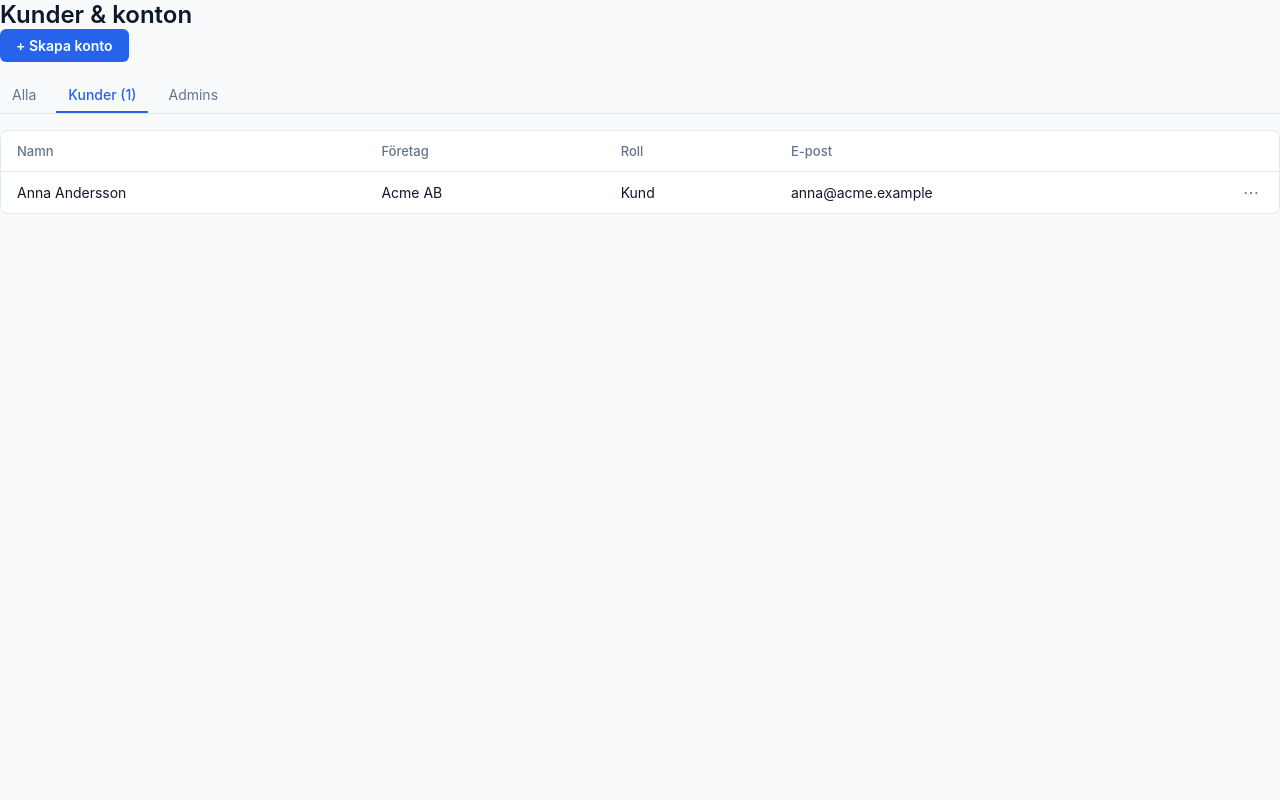
Test: AdminAccountsPage › opens the create account modal
Click the button "+ Skapa konto": (64, 46) [0,29,129,62]
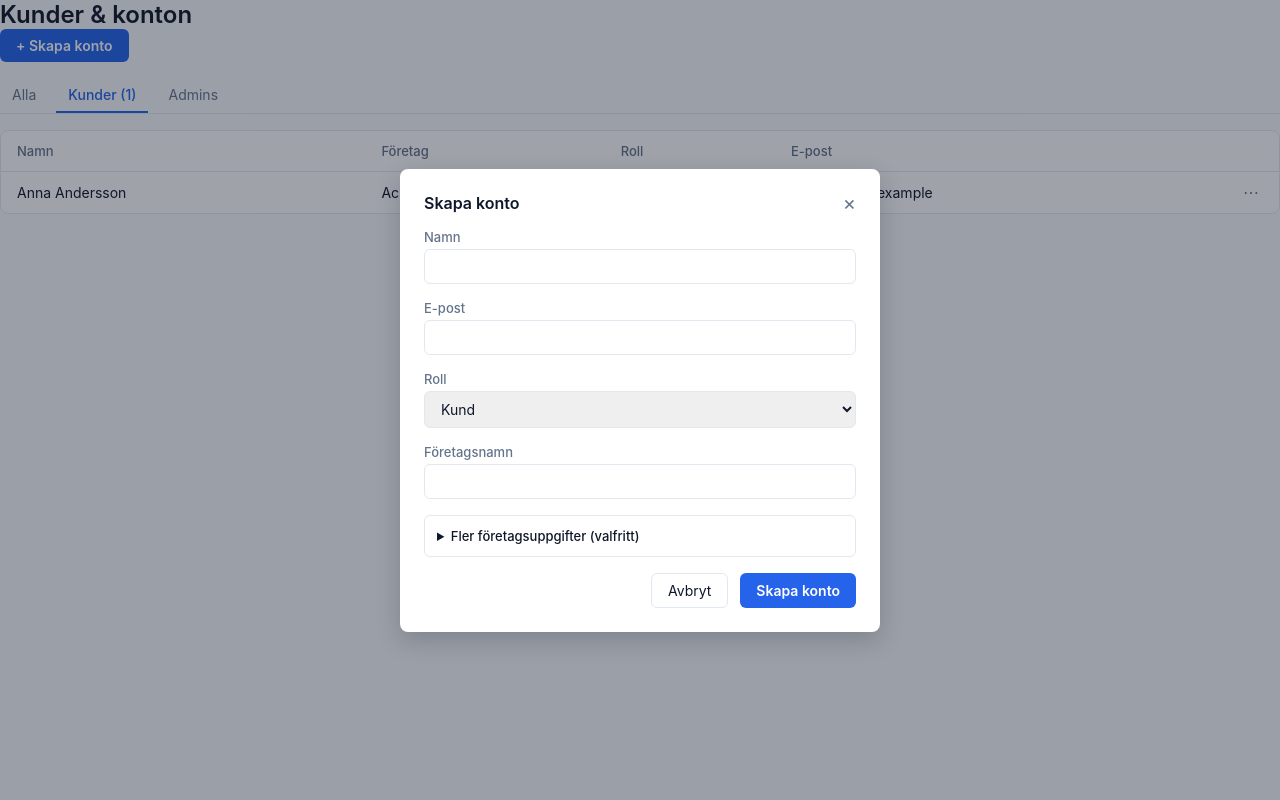
expect the heading "Skapa konto" is shown: met, box [424,192,520,212]
